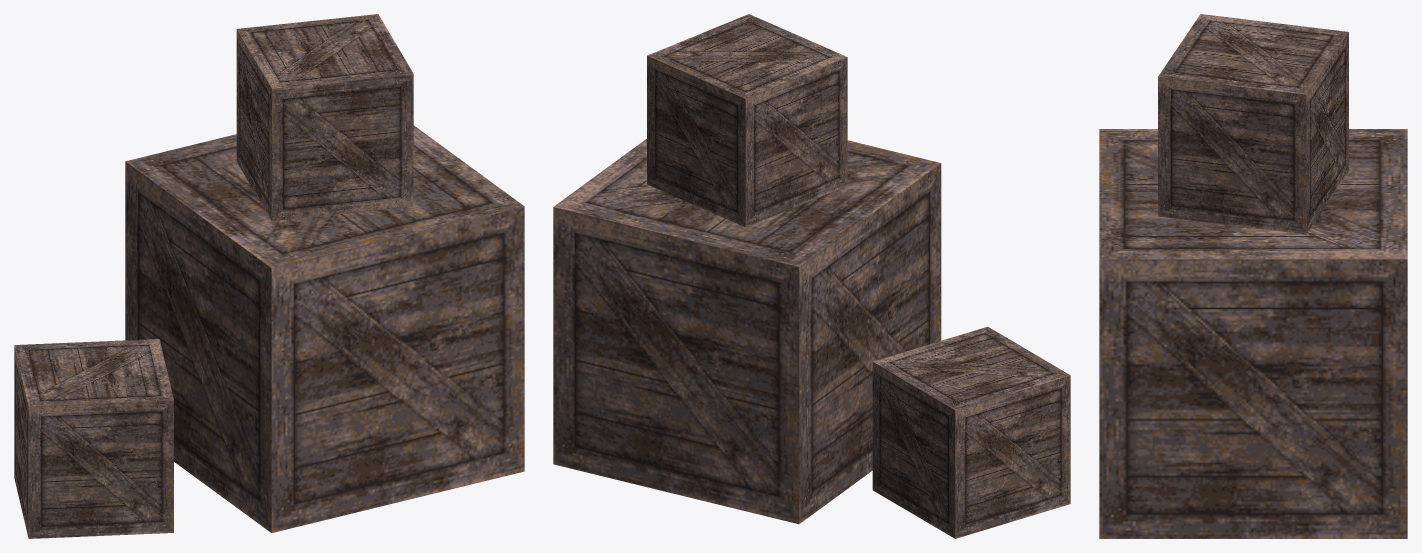
Rendered from crates.glb.
3 renders of one model, left to right at view 1: azimuth 30°, elevation 25°; view 2: azimuth 150°, elevation 25°; view 3: azimuth 270°, elevation 25°, orthographic. The views are drawn at different scales.
Visible parts, largest first — view 1: crate; view 2: crate; view 3: crate.
Boxes of the visible parts, x1=… form: crate: x1=14, y1=14, x2=524, y2=538; crate: x1=553, y1=14, x2=1070, y2=538; crate: x1=1099, y1=14, x2=1407, y2=538.
Bounding box in the file's own units: 6.97 × 6 × 4.
1 material, 1 textured.
